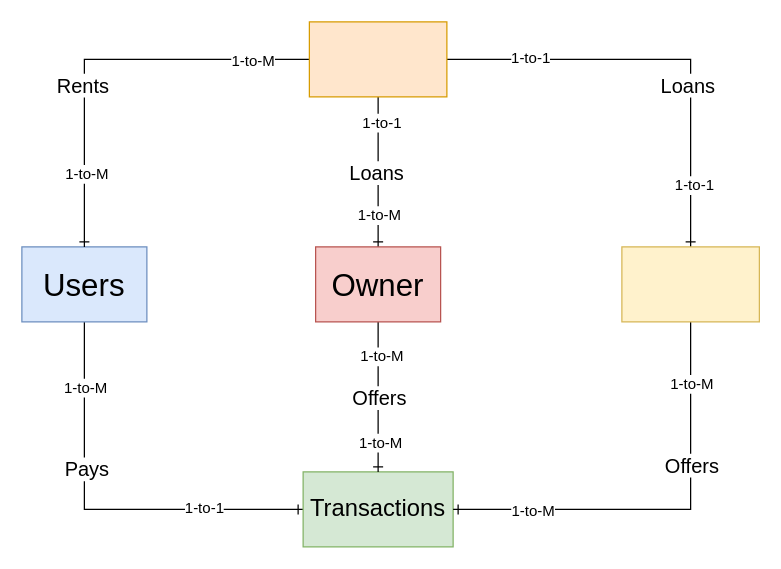
This 781x569 diagram has some shape labels left out. The box of each missing label's shape, as (x1, y1, x2, y2) in pixels:
Cars: (308, 21, 447, 97)
Renter: (621, 246, 759, 322)
